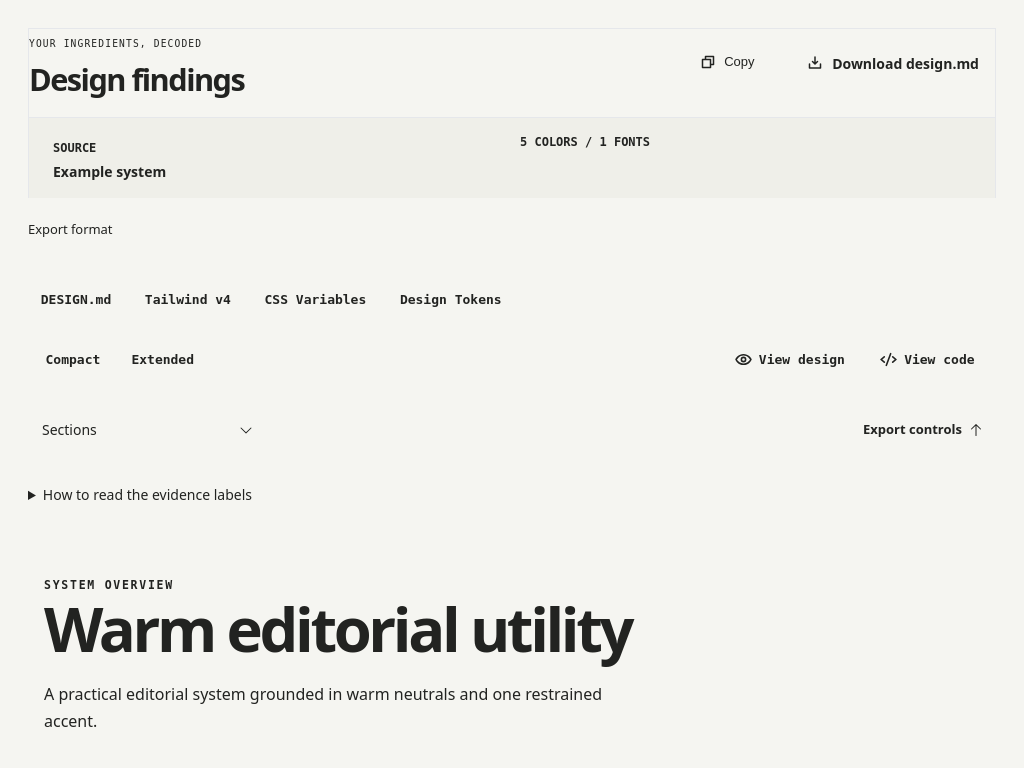
Test: ResultPanel experience › changes Compact and Extended locally and copies the visible variant
Click the button "View code" at (927, 360), box [858,338,996,382]
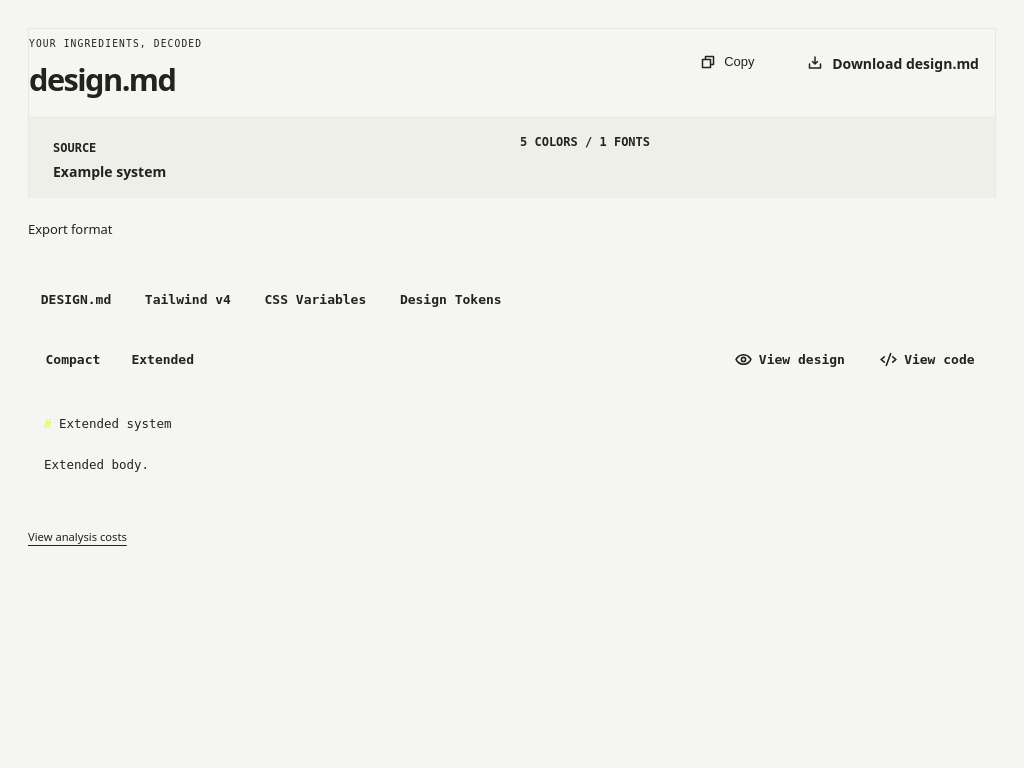
Click the button "Compact" at (73, 360), box [28,338,118,382]
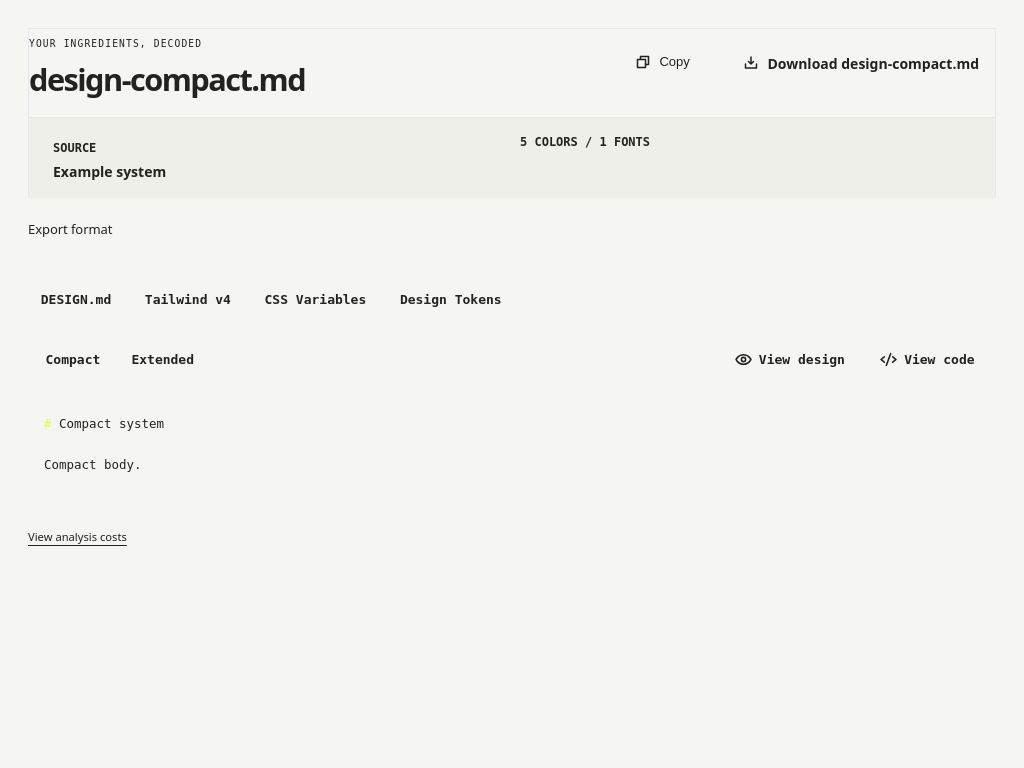
Expected: the element named "DESIGN.md raw output" shows "# Compact system", [44,416,164,472]
Click the button "Copy" at (663, 62), box [611,40,715,84]
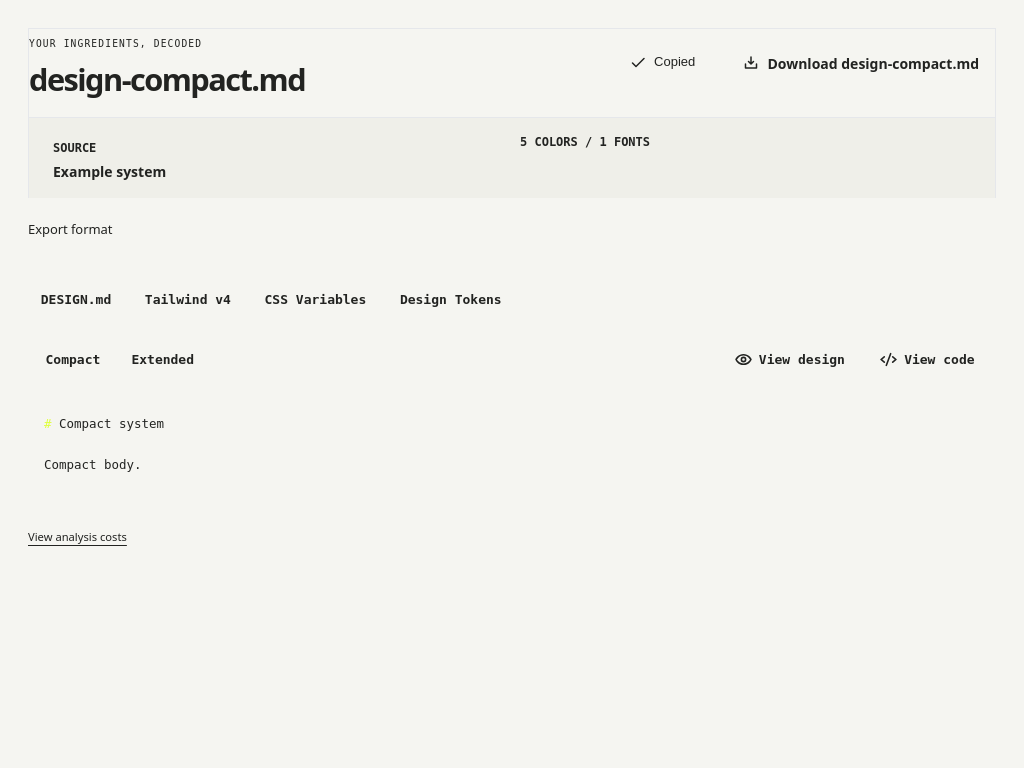
Expected: the button "Copied" is shown, [611,40,715,84]
